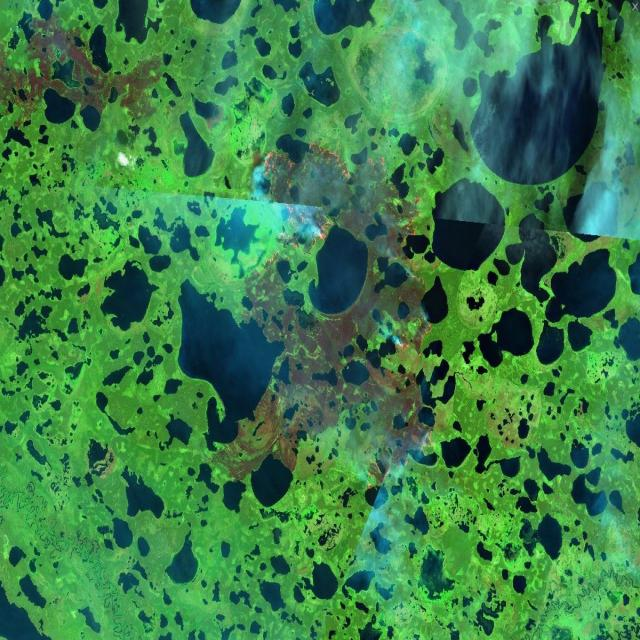fire: (250, 124, 440, 483)
